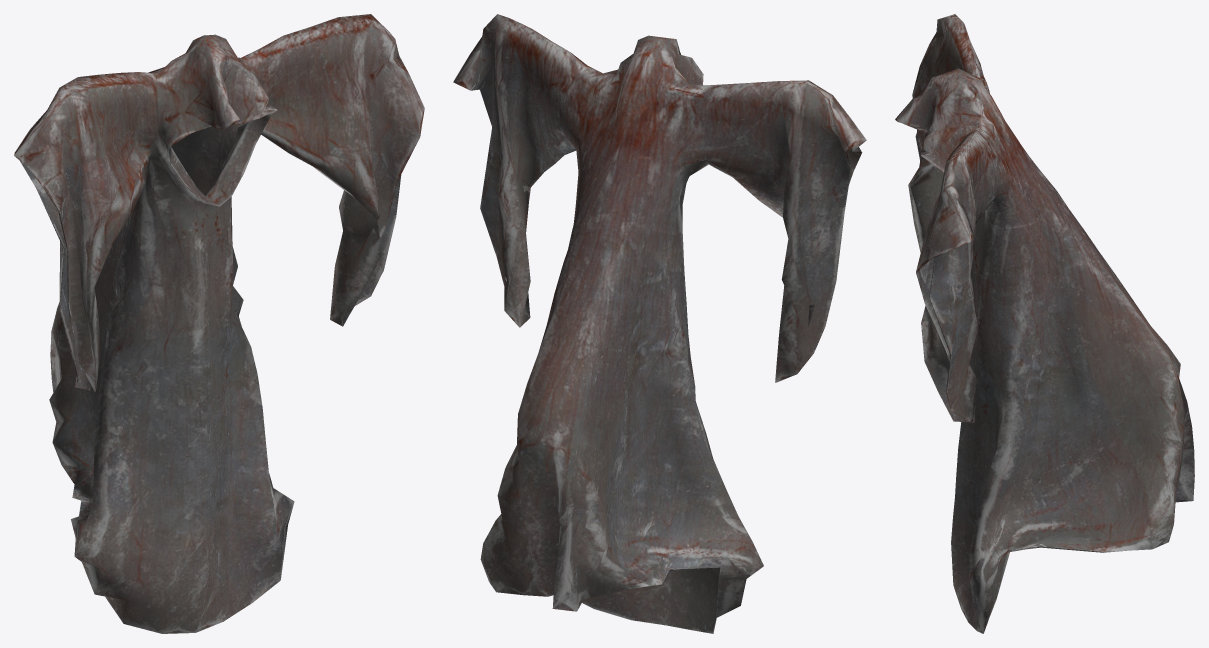
Rendered from SpectreStatue.fbx.
3 views of the same model, side by side, from view 1: azimuth 30°, elevation 25°; view 2: azimuth 150°, elevation 25°; view 3: azimuth 270°, elevation 25° (orthographic). The views are drawn at different scales.
Visible parts, largest first — view 1: SpectreStatue; view 2: SpectreStatue; view 3: SpectreStatue.
Part boxes in pixels (x1=…): SpectreStatue: x1=14, y1=14, x2=424, y2=633; SpectreStatue: x1=453, y1=14, x2=866, y2=633; SpectreStatue: x1=895, y1=14, x2=1194, y2=633.
Size of the model in its own units: 143 by 200 by 99.87.
1 material, 1 textured.
